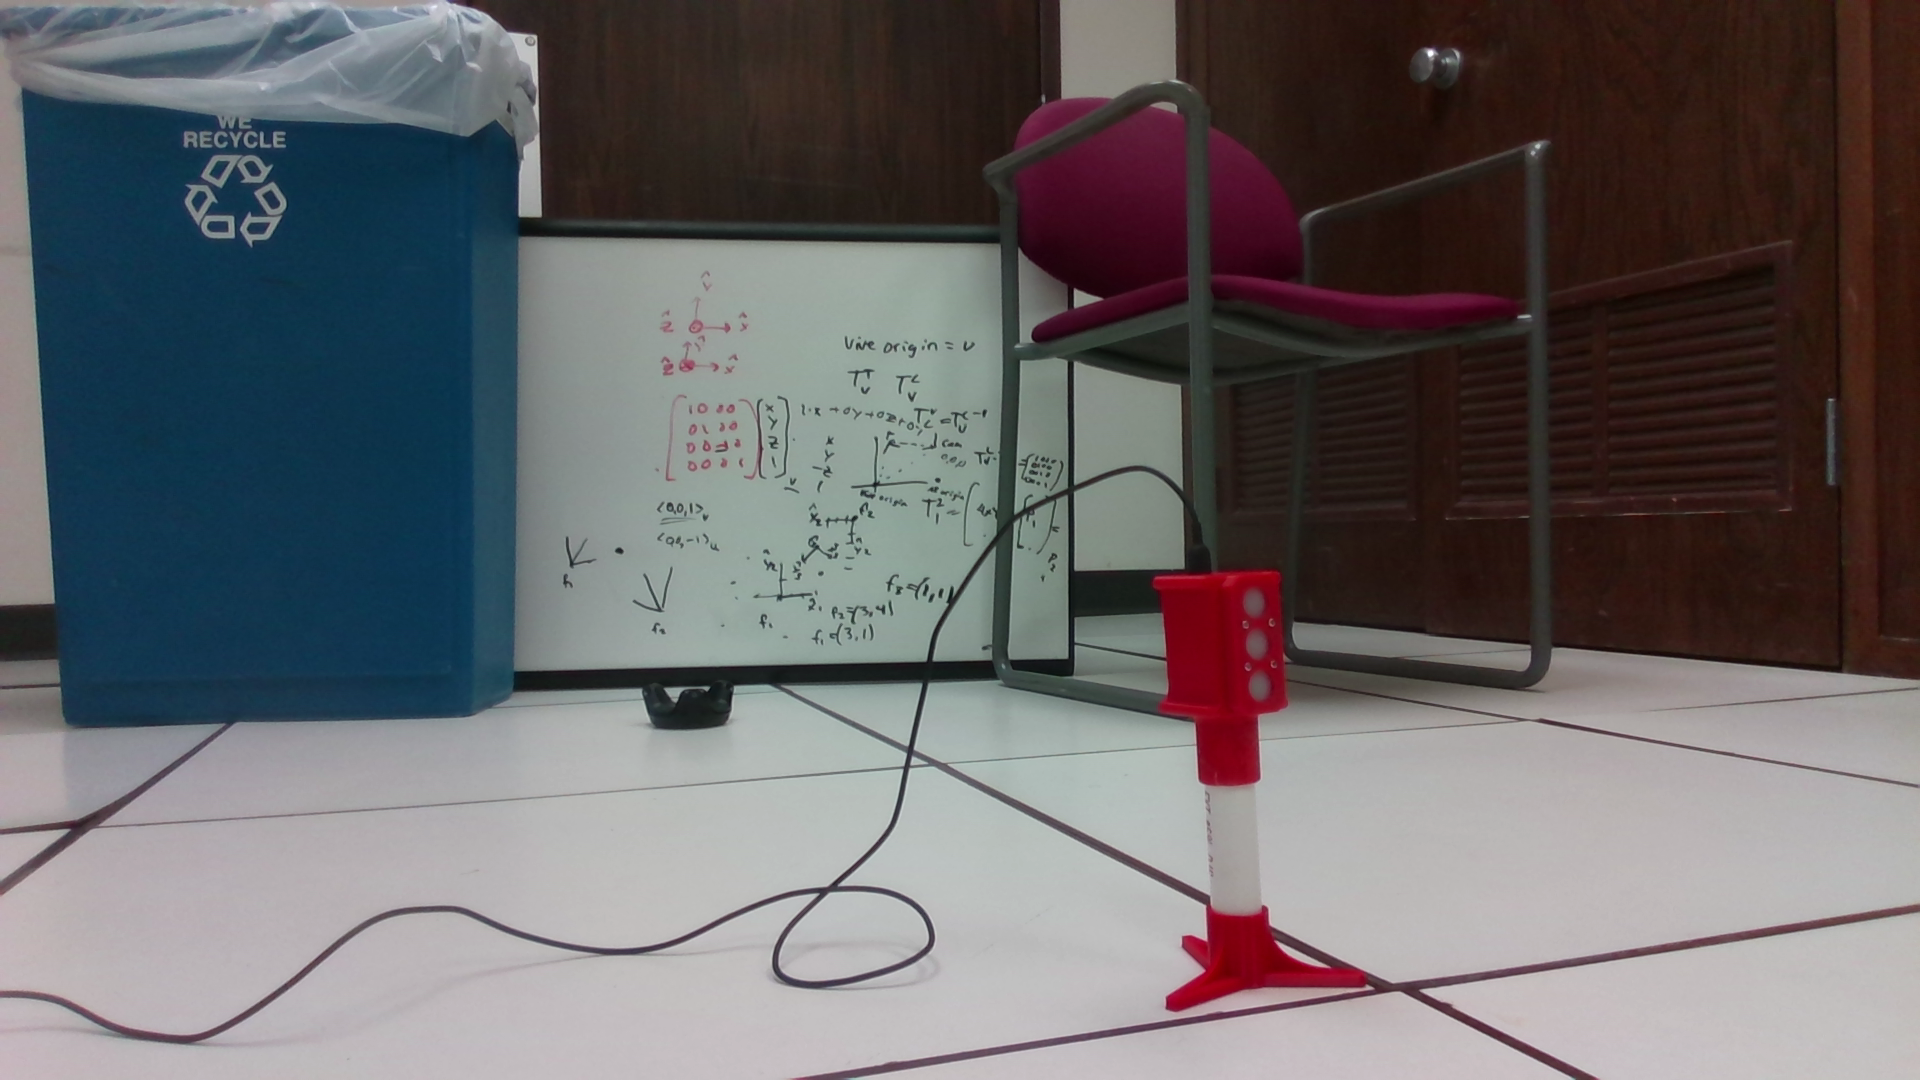stoplight: (1159, 571, 1294, 789)
